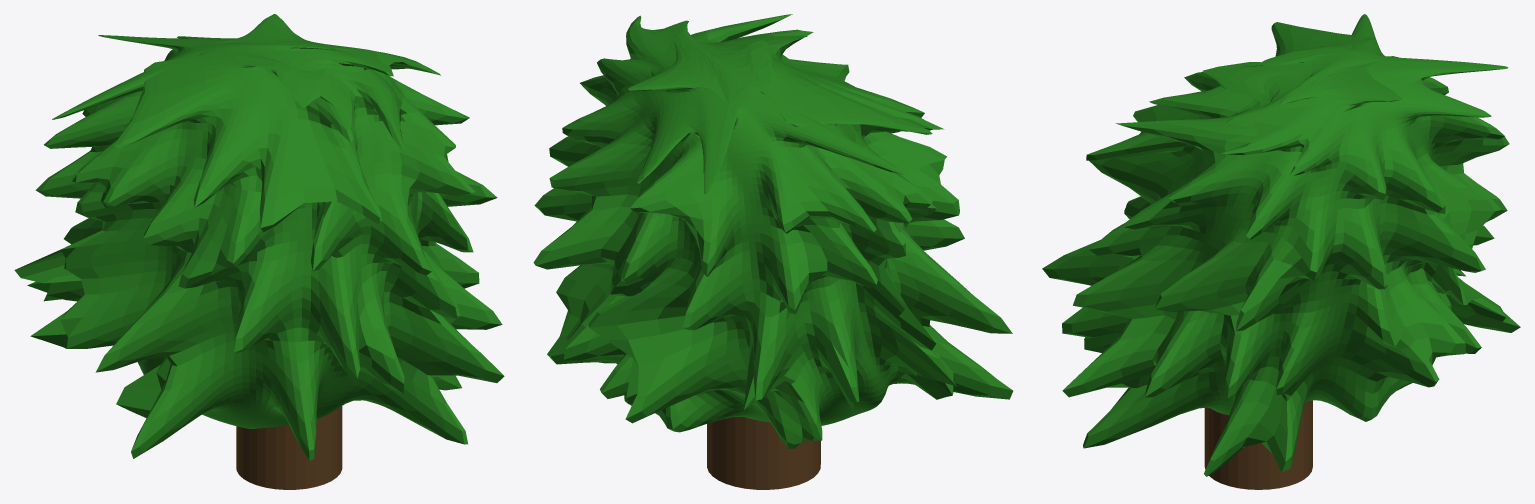
The model's file is куст.fbx.
The picture shows the model from 3 angles, left to right: view 1: azimuth 30°, elevation 25°; view 2: azimuth 150°, elevation 25°; view 3: azimuth 270°, elevation 25°; orthographic projection. The views are drawn at different scales.
Parts seen in each view (by area): view 1: Sphere, Cylinder; view 2: Sphere, Cylinder; view 3: Sphere, Cylinder.
Boxes of the visible parts, <box> form: Sphere: <box>14,14,504,460</box>; Cylinder: <box>236,406,342,489</box>; Sphere: <box>533,14,1013,448</box>; Cylinder: <box>707,416,820,489</box>; Sphere: <box>1042,14,1520,476</box>; Cylinder: <box>1204,400,1312,489</box>.
Bounding box in the file's own units: 135 × 123 × 132.
